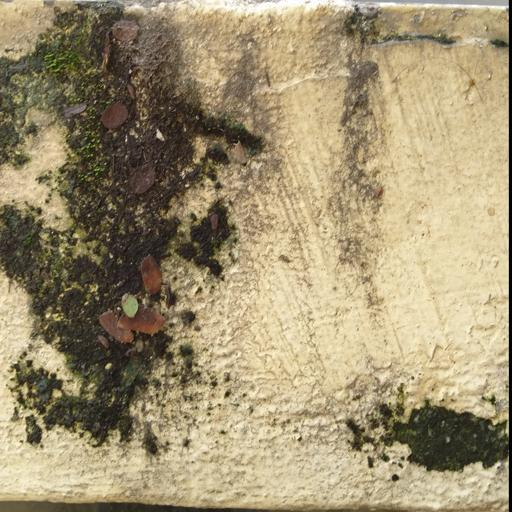algae: (0, 4, 288, 469)
